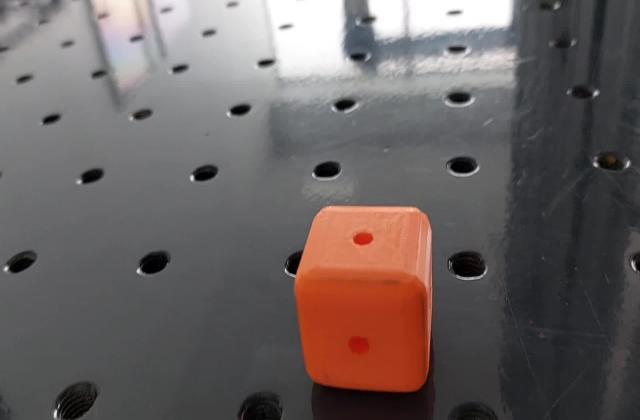cube: (292, 202, 436, 397)
